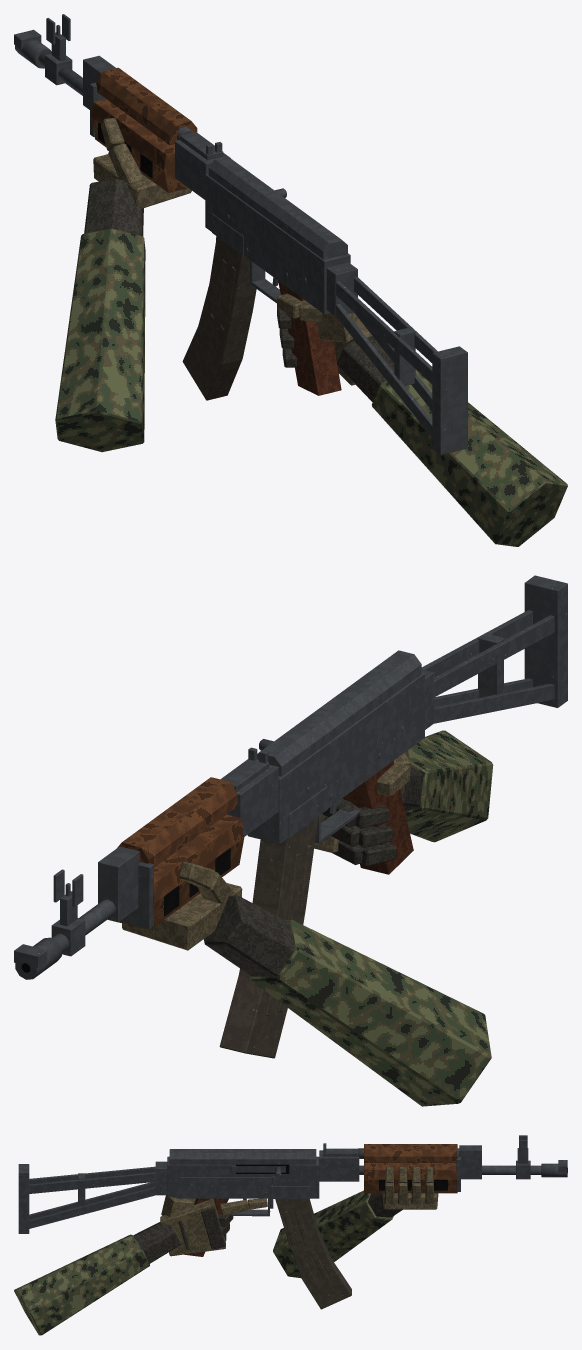
File: granit.glb
3 renders of one model, top to bottom at view 1: azimuth 30°, elevation 25°; view 2: azimuth 150°, elevation 25°; view 3: azimuth 270°, elevation 25°, orthographic. The views are drawn at different scales.
Visible parts, largest first — view 1: korpus, reka_l, reka_p, magazynek; view 2: korpus, reka_l, reka_p, magazynek; view 3: korpus, reka_p, reka_l, magazynek, zamek.
Part boxes in pixels (x1,y1,x2,y2): korpus: (14, 14, 467, 454); reka_l: (55, 118, 191, 452); reka_p: (276, 293, 567, 546); magazynek: (182, 236, 256, 400); korpus: (14, 575, 567, 979); reka_l: (122, 861, 491, 1106); reka_p: (314, 730, 493, 866); magazynek: (219, 816, 318, 1058); korpus: (18, 1135, 567, 1256); reka_p: (14, 1195, 267, 1335); reka_l: (273, 1166, 438, 1278); magazynek: (275, 1199, 351, 1309); zamek: (230, 1166, 285, 1178).
Bounding box in the file's own units: 0.3679 × 0.3324 × 0.9301.
8 materials, 8 textured.
